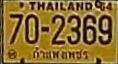0: (24, 13, 38, 43)
2: (51, 14, 64, 44)
3: (66, 14, 80, 44)
6: (82, 14, 96, 44)
7: (9, 14, 22, 44)
9: (98, 14, 111, 44)
KPT: (30, 46, 91, 61)
